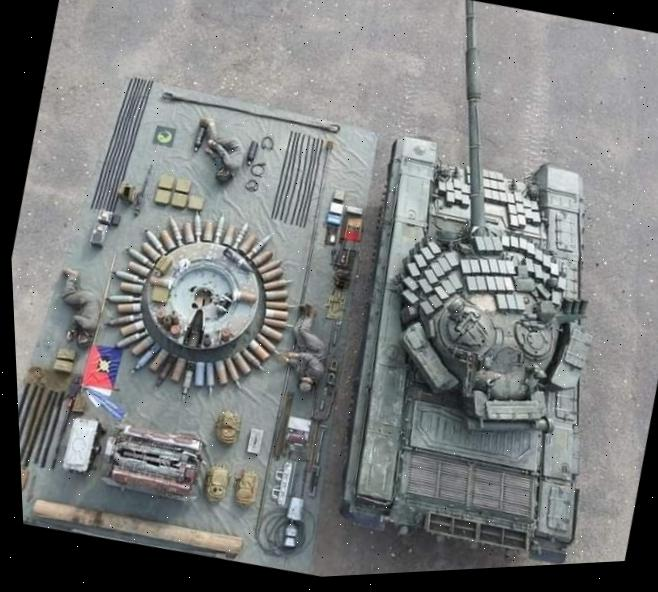armored_car: (3, 46, 418, 590)
tank: (301, 0, 658, 576)
